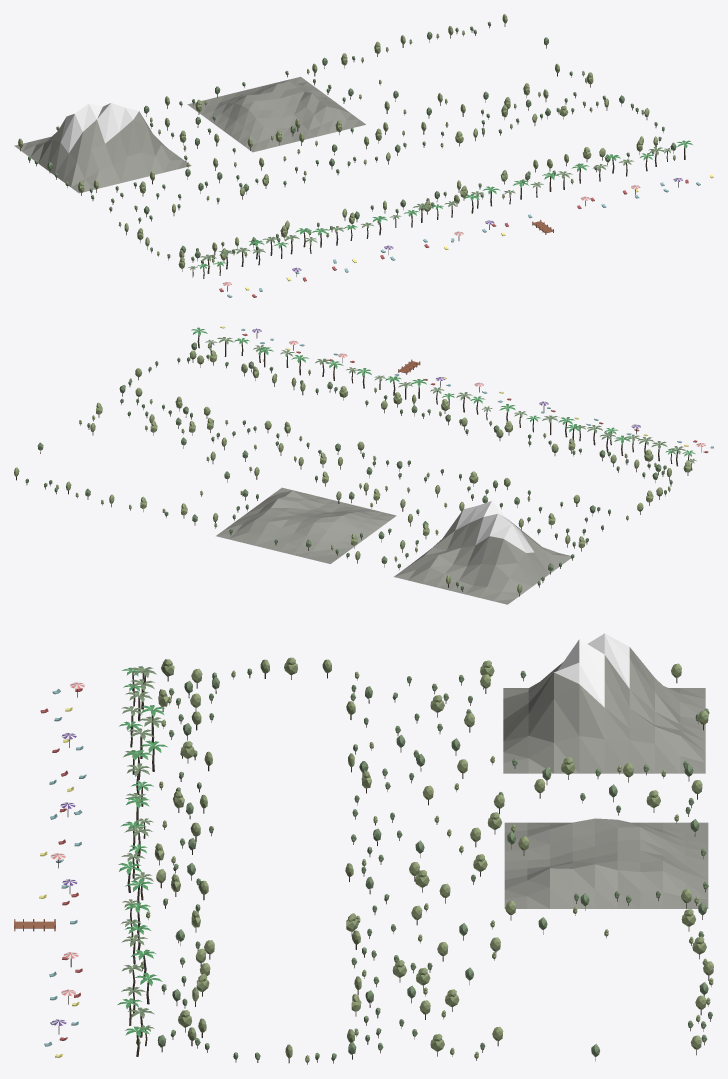
The model's file is environment_objects.glb.
The picture shows the model from 3 angles, top to bottom: view 1: azimuth 30°, elevation 25°; view 2: azimuth 150°, elevation 25°; view 3: azimuth 270°, elevation 25°; orthographic projection. The views are drawn at different scales.
Visible parts, largest first — view 1: Landscape.001, Landscape; view 2: Landscape.001, Landscape; view 3: Landscape.001, Landscape.
Boxes of the visible parts, bbox=[...] form: Landscape.001: bbox=[14, 103, 191, 193]; Landscape: bbox=[187, 76, 365, 152]; Landscape.001: bbox=[394, 501, 570, 604]; Landscape: bbox=[216, 487, 396, 563]; Landscape.001: bbox=[503, 633, 705, 773]; Landscape: bbox=[504, 818, 708, 908].
Bounding box in the file's own units: 120 × 13.69 × 91.63.
